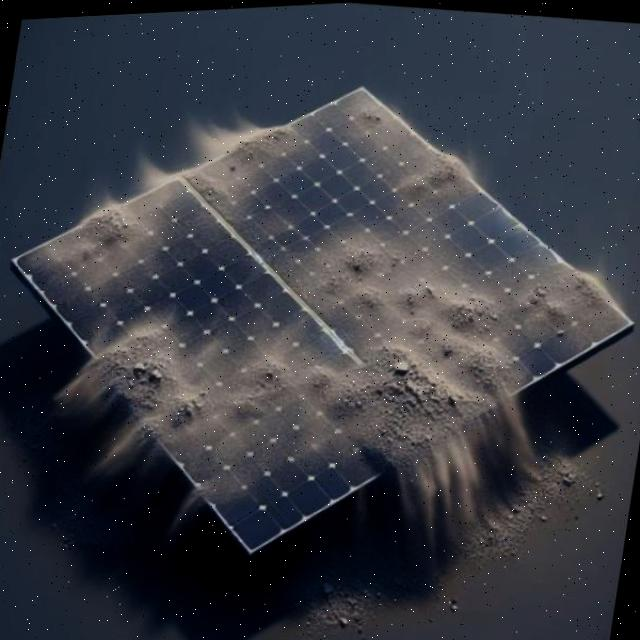Anomaly Solar Panel: (13, 7, 632, 583)
Surface Contaminant: (81, 126, 640, 555), (15, 108, 350, 350), (288, 62, 489, 233)
